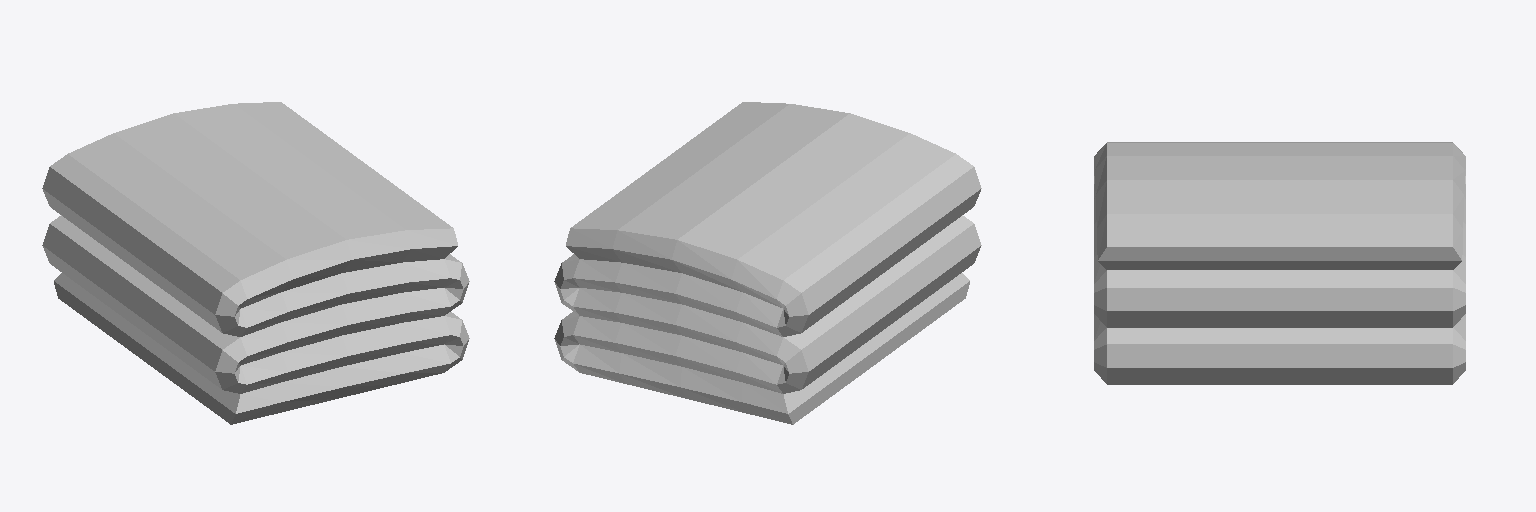
File: Textiles_A.obj
3 views of the same model, side by side, from view 1: azimuth 30°, elevation 25°; view 2: azimuth 150°, elevation 25°; view 3: azimuth 270°, elevation 25° (orthographic).
Parts seen in each view (by area): view 1: Textiles_A; view 2: Textiles_A; view 3: Textiles_A.
Boxes of the visible parts, x1,y1,x2,y2 form: Textiles_A: [42, 102, 469, 424]; Textiles_A: [554, 102, 981, 424]; Textiles_A: [1094, 142, 1465, 384].
Size of the model in its own units: 0.75 by 0.4413 by 0.95.